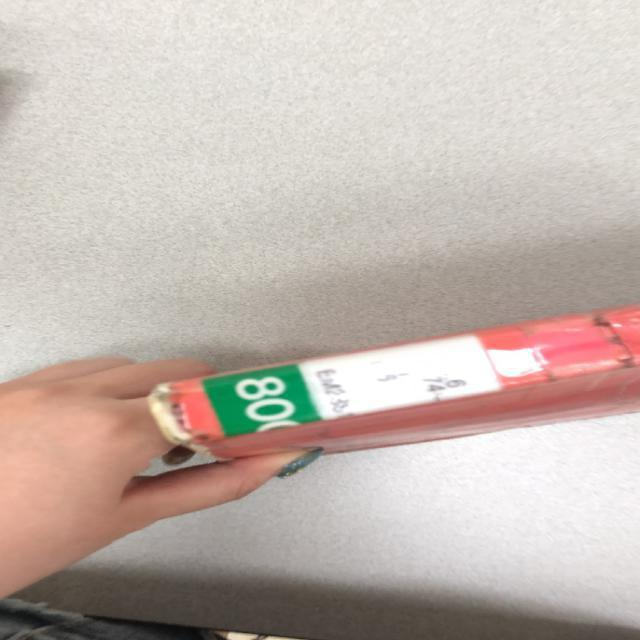Wornout: (142, 377, 231, 463)
